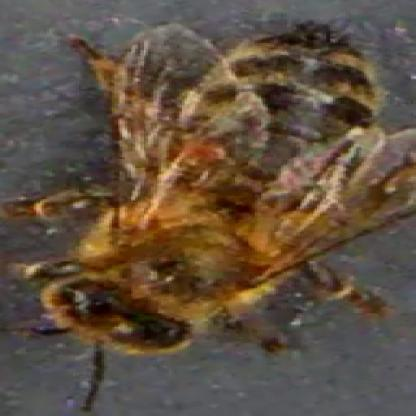bee: (62, 25, 372, 354)
vaoora: (176, 140, 224, 166)
